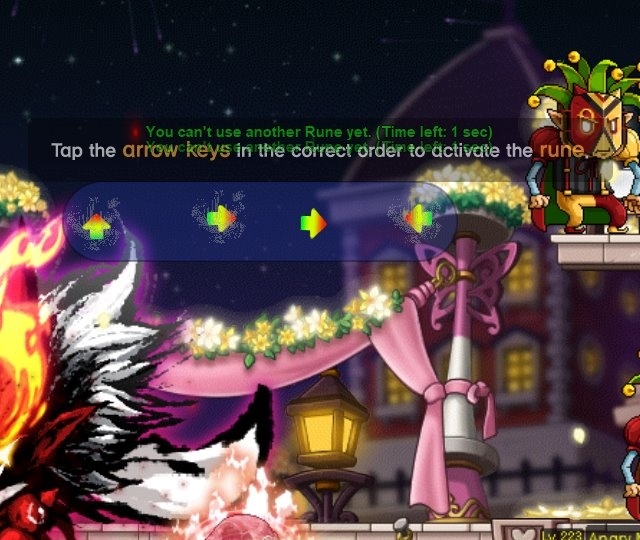left: (401, 200, 438, 237)
right: (201, 202, 242, 238), (295, 204, 331, 244)
up: (76, 211, 119, 245)
